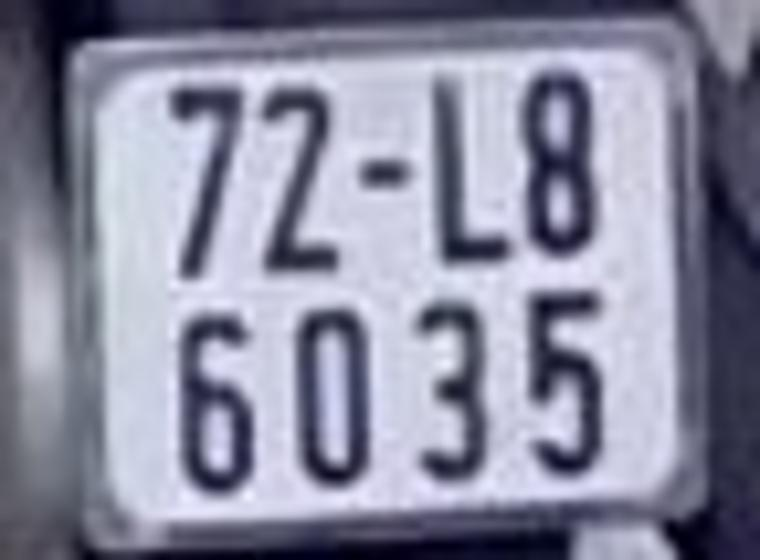-: (359, 162, 411, 189)
0: (286, 312, 371, 486)
2: (254, 79, 345, 271)
3: (399, 299, 486, 480)
5: (527, 288, 608, 474)
6: (172, 313, 254, 489)
7: (171, 92, 234, 282)
8: (521, 67, 597, 256)
L: (422, 62, 509, 262)
